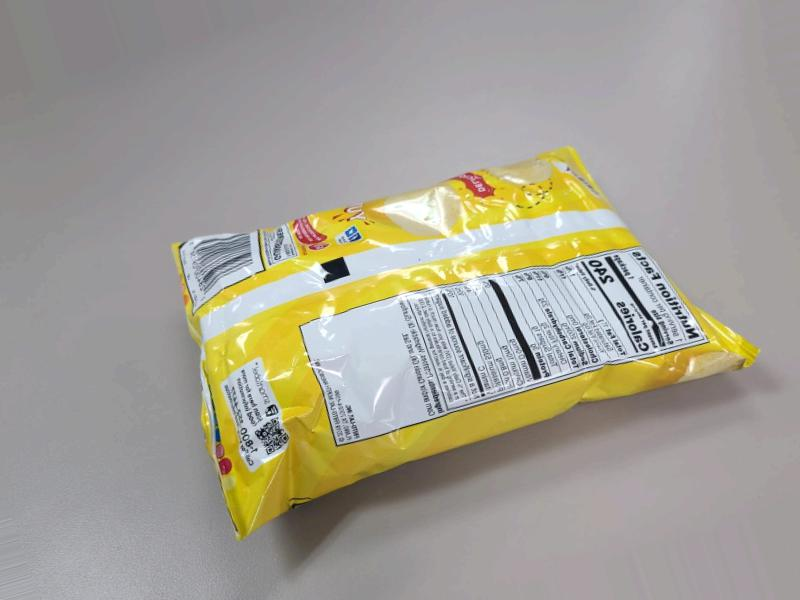lays: (235, 204, 800, 583)
